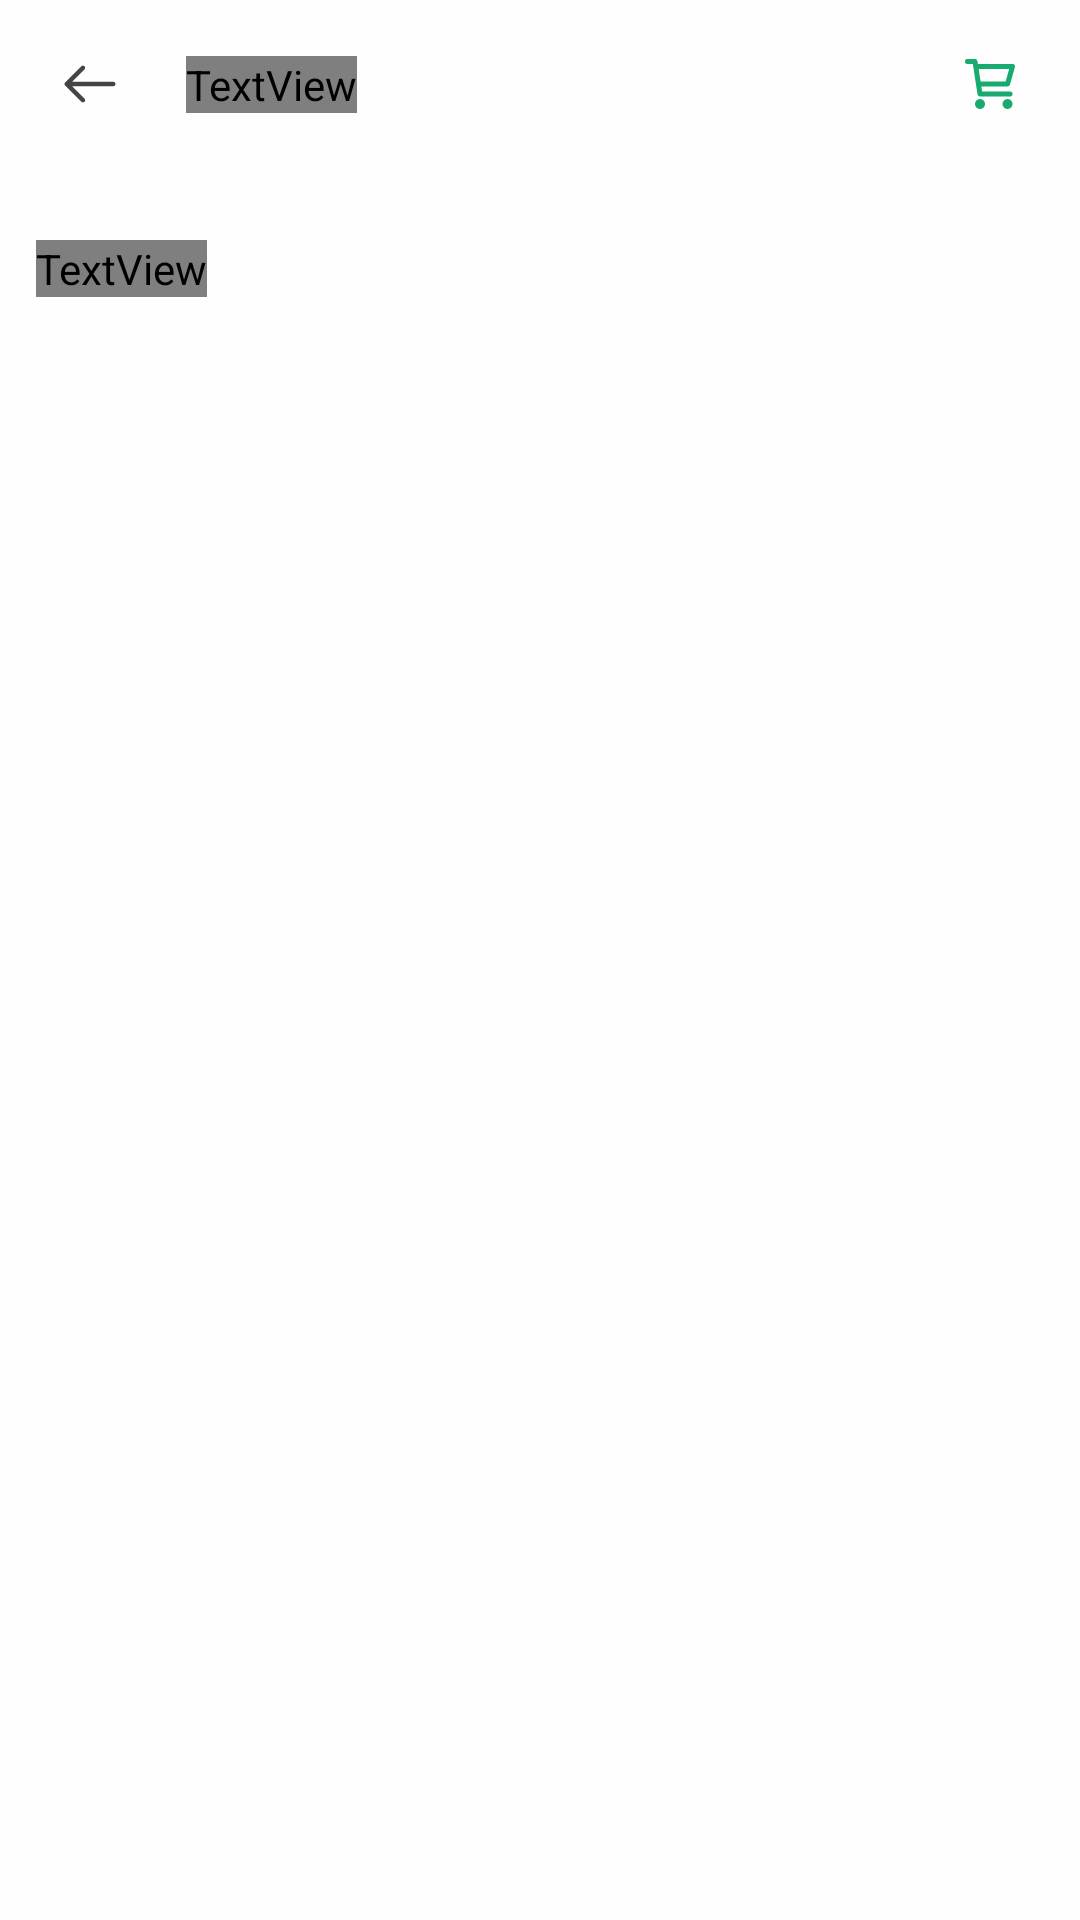

Icon bounding boxes for this 1080 x 1920 phone screenshot, format (x1, y1, x2, y2):
Cart Icon: (965, 59, 1015, 109)
